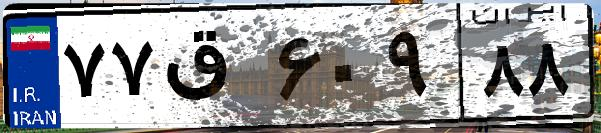0: (330, 28, 385, 110)
6: (270, 28, 330, 110)
7: (57, 26, 110, 100), (110, 28, 158, 98)
8: (475, 38, 525, 113), (525, 38, 570, 115)
9: (385, 28, 445, 110)
ق: (158, 20, 270, 120)
